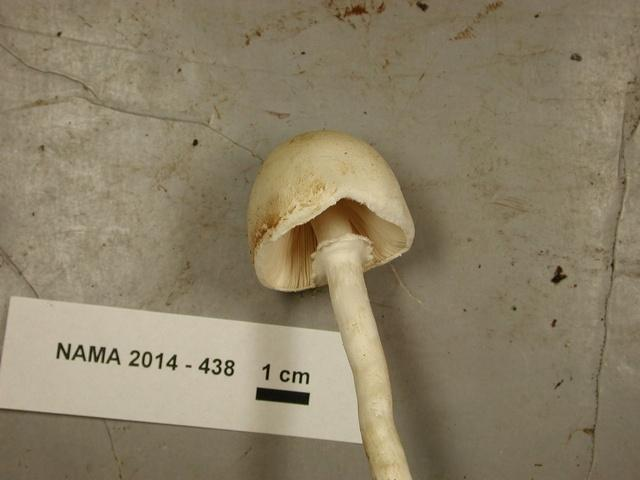poisonous_mushroom: (245, 127, 418, 479)
